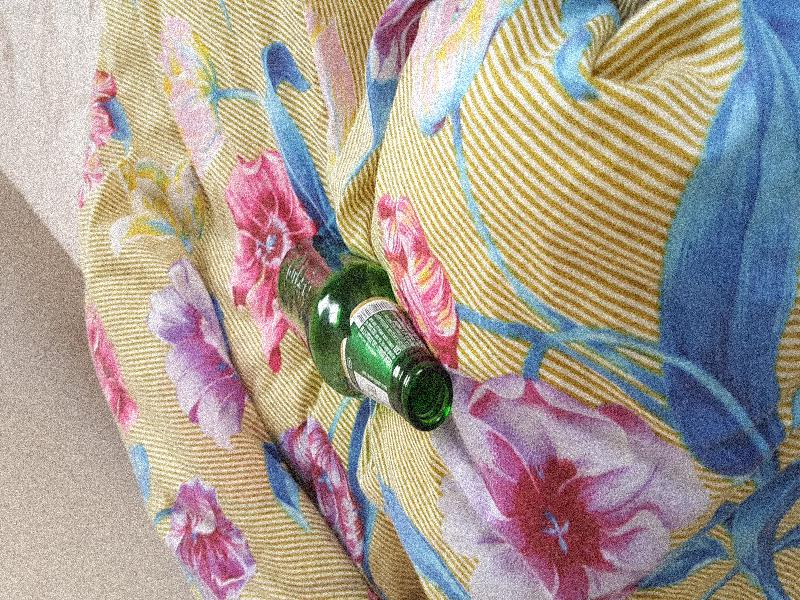Beer: (277, 235, 455, 433)
